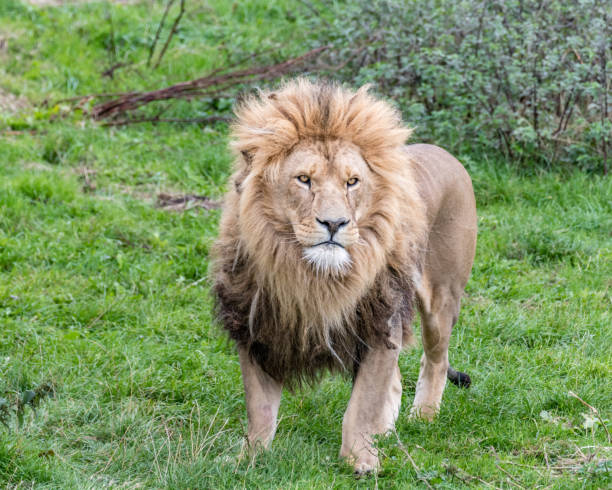lion: (196, 53, 426, 397)
